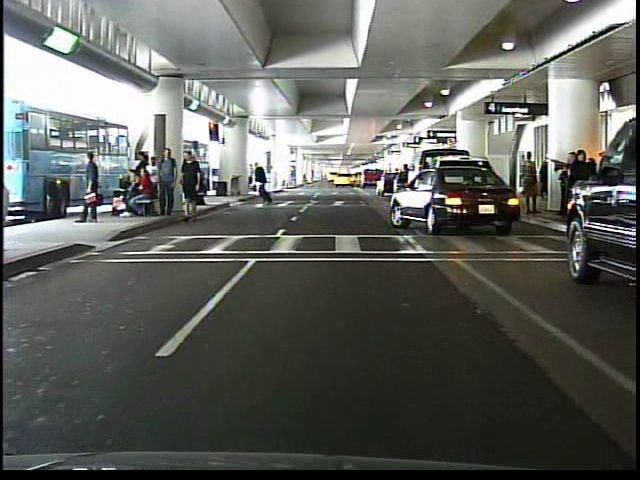person: (76, 145, 108, 233), (521, 150, 540, 215), (256, 161, 280, 206)
